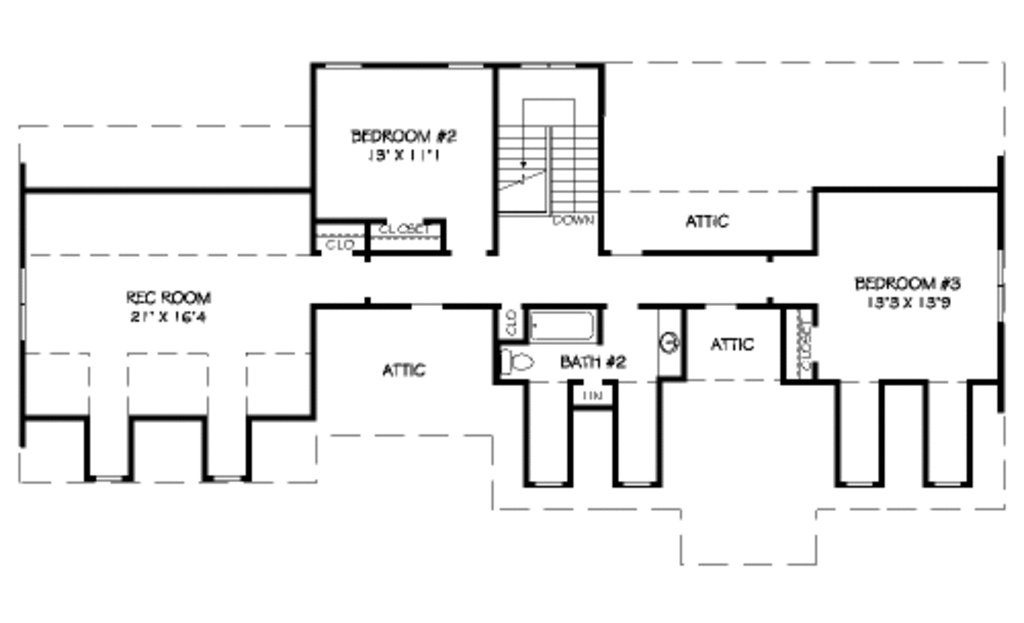large_sink: (499, 343, 535, 375)
small_sink: (650, 314, 688, 380)
stairs: (492, 91, 604, 228)
tub: (524, 310, 613, 346)
window: (441, 57, 487, 74), (319, 59, 368, 74), (524, 57, 571, 72), (538, 478, 573, 487), (625, 478, 657, 484)
